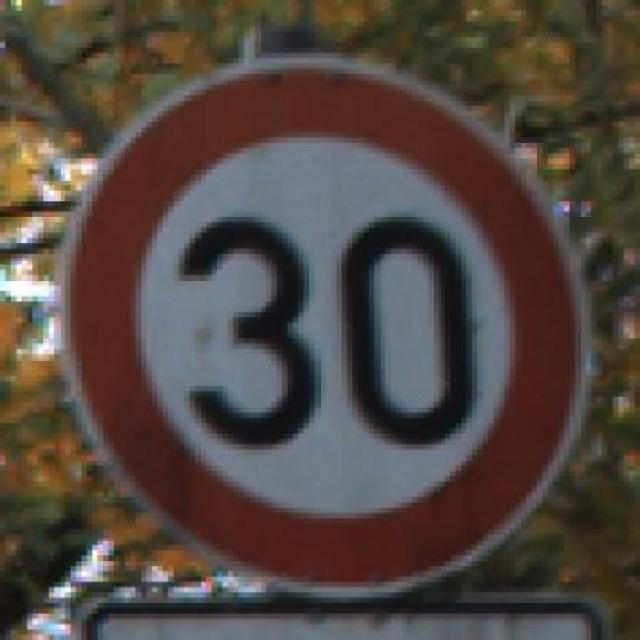Speed Limit 30 KMPh: (38, 26, 613, 603)
